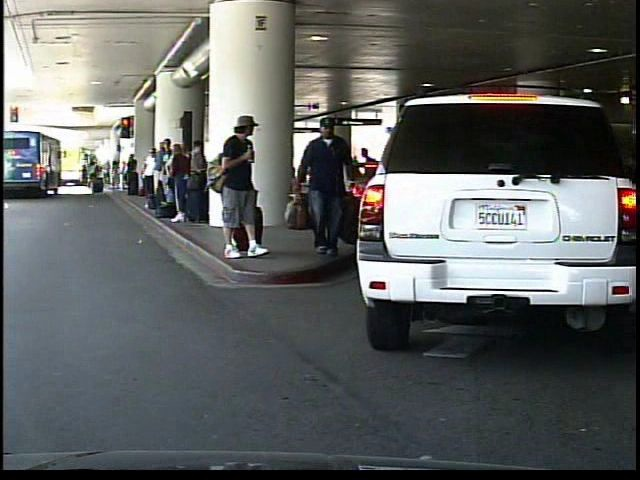person: (298, 108, 365, 262), (215, 112, 272, 261)
